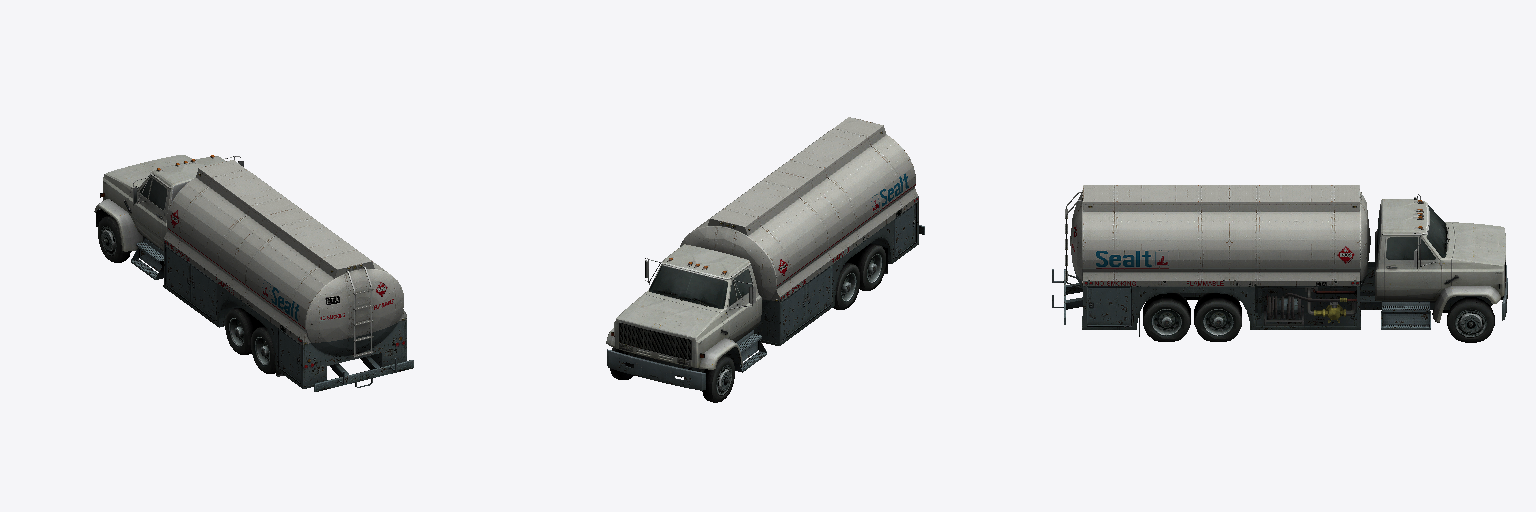
3 views of the same model, side by side, from view 1: azimuth 30°, elevation 25°; view 2: azimuth 150°, elevation 25°; view 3: azimuth 270°, elevation 25° (orthographic).
Visible parts, largest first — view 1: (null); view 2: (null); view 3: (null).
Part boxes in pixels (x1,y1,x2,y2): (null): (94, 155, 413, 391); (null): (606, 117, 924, 402); (null): (1052, 185, 1507, 342).
Size of the model in its own units: 123 by 131 by 430.
Materials: 1 (1 with a texture image).